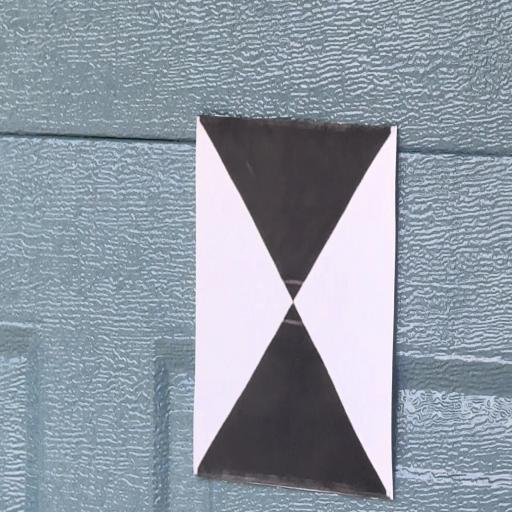target: (194, 115, 398, 500)
